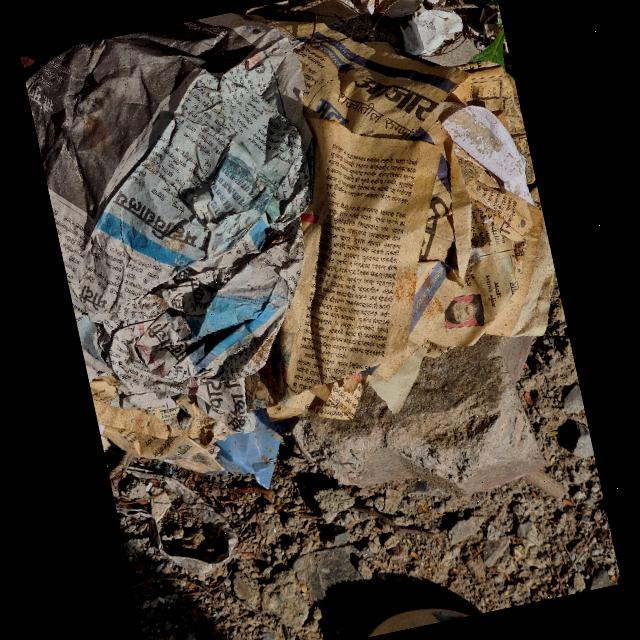trash: (19, 0, 589, 531), (19, 2, 369, 426), (277, 326, 558, 530), (436, 94, 536, 222), (207, 404, 293, 499), (395, 1, 467, 60)
